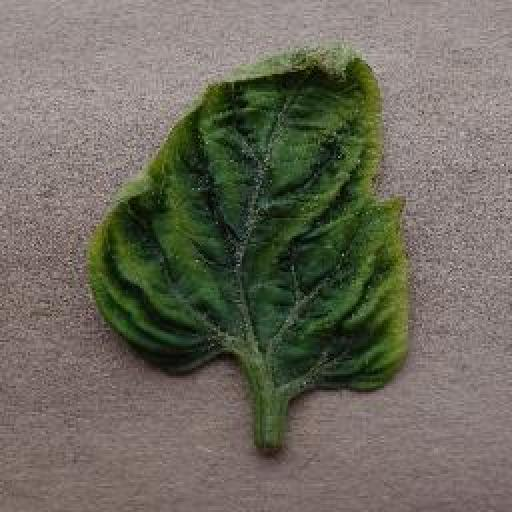Yellow Leaf Curl Virus: (86, 43, 410, 392)
